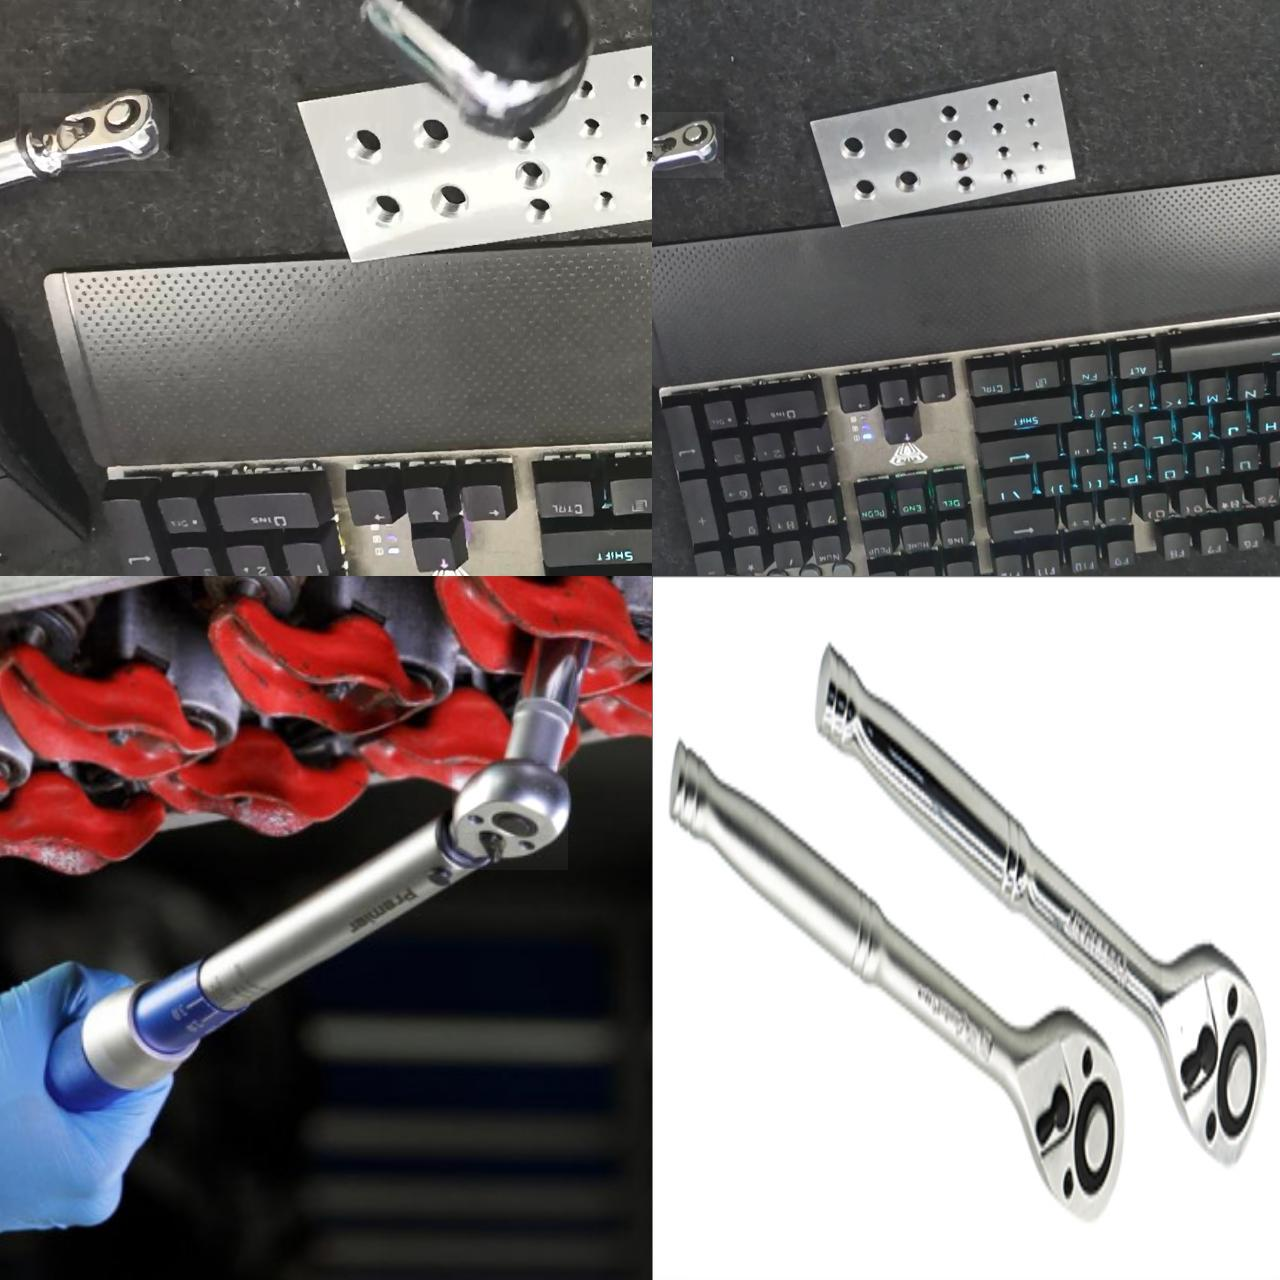Tool: (1015, 997, 1128, 1216), (1161, 940, 1268, 1167), (451, 765, 567, 869), (18, 92, 168, 170), (652, 111, 723, 177)
